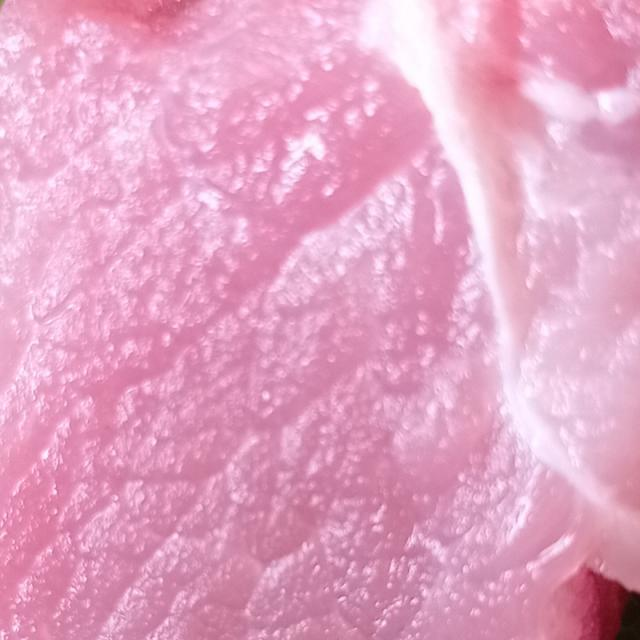Pork: (1, 1, 640, 640)
